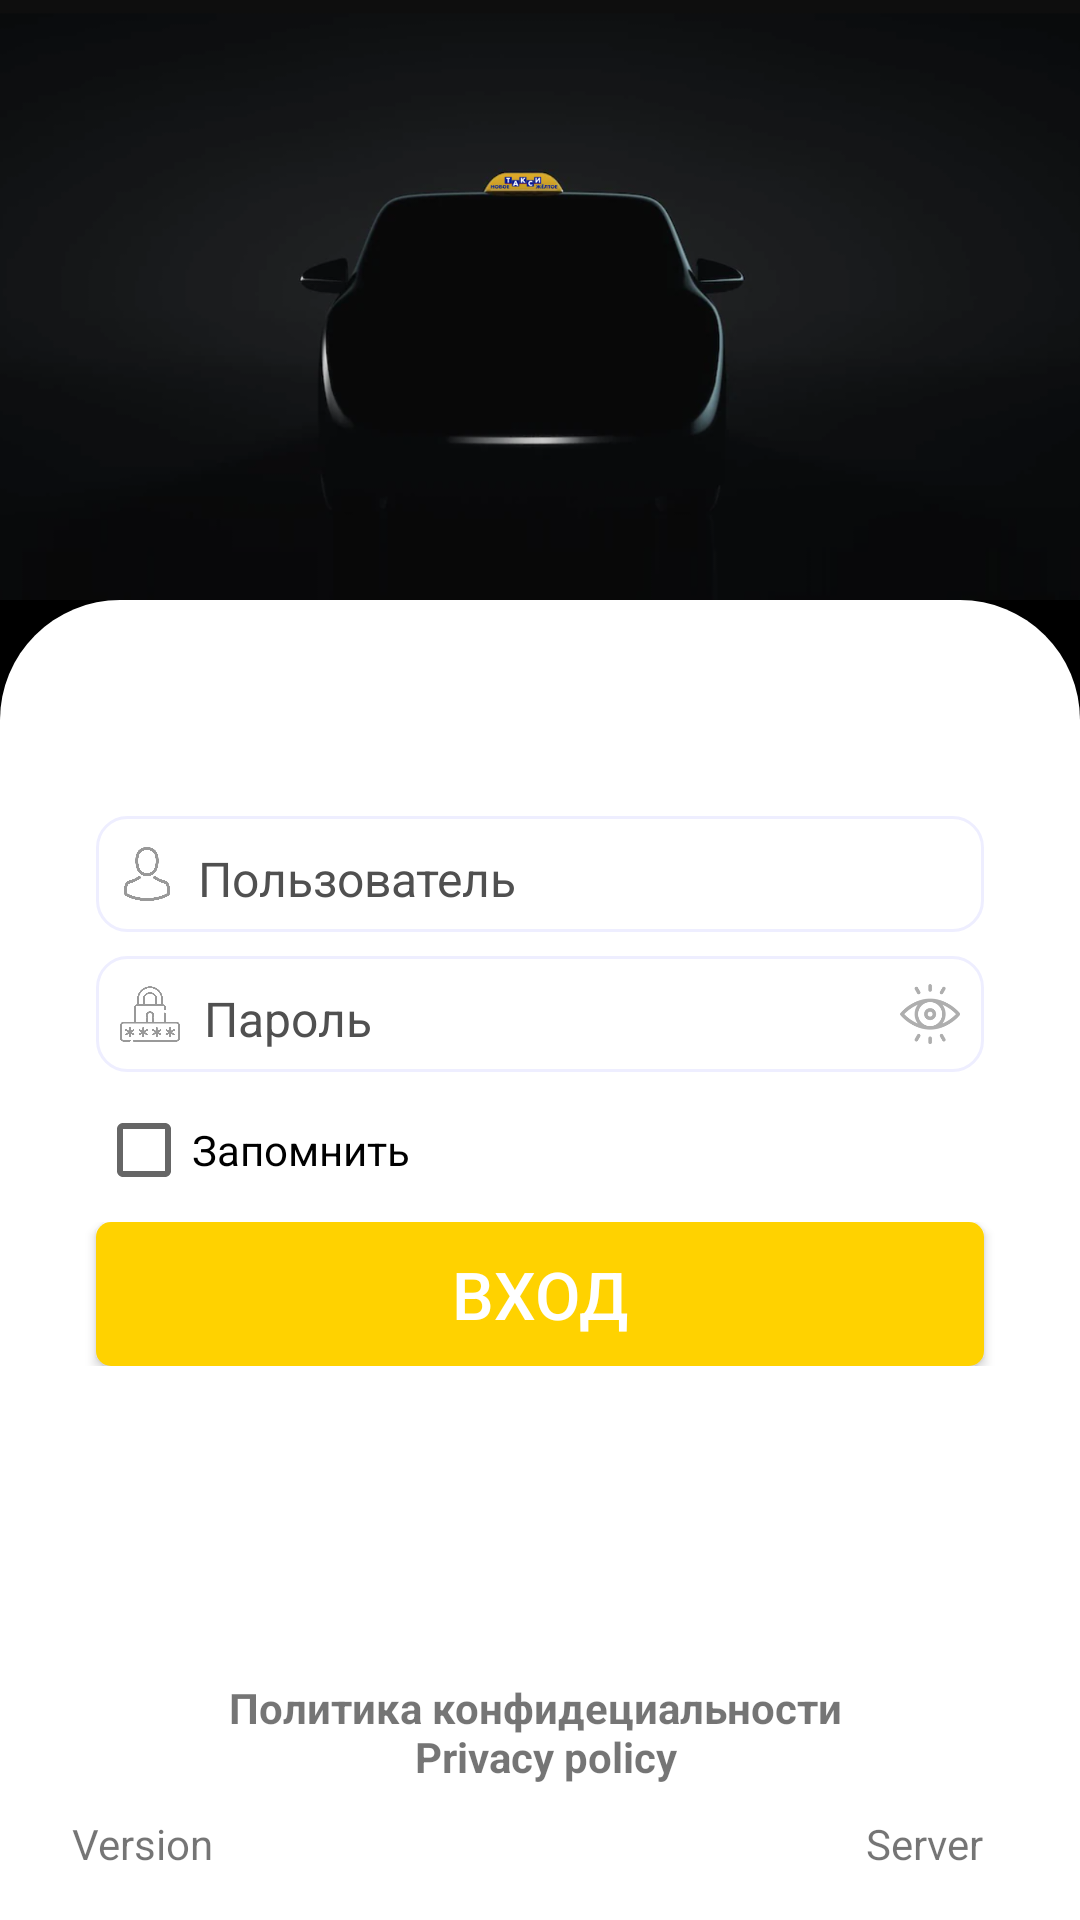

Point at icon controls on the screen. Image size 1080×1920, points as (x=x, y=y).
eye: (x=930, y=1014)
secure: (x=150, y=1014)
